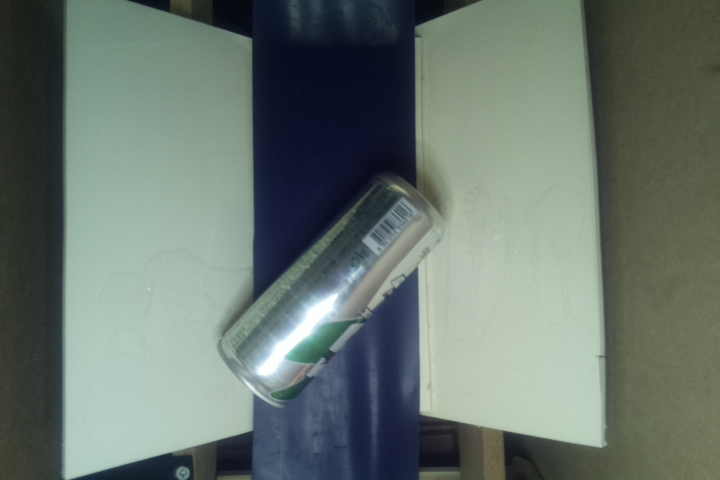can: (216, 169, 442, 410)
